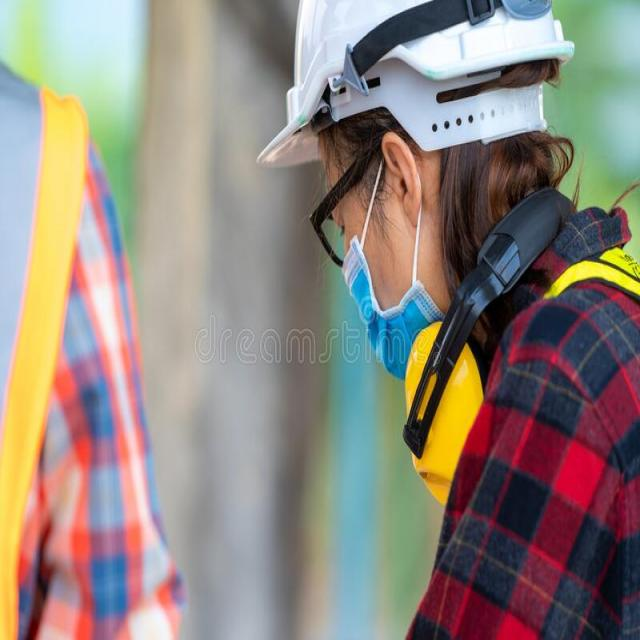Reflective-Jacket: (409, 224, 637, 630), (0, 37, 103, 640)
Safety-Helmet: (264, 3, 582, 168)
